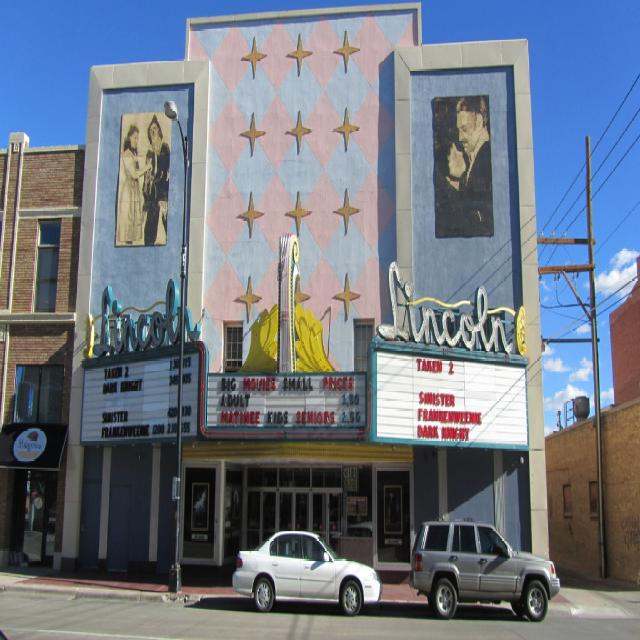car: (407, 515, 556, 624), (230, 528, 382, 616)
